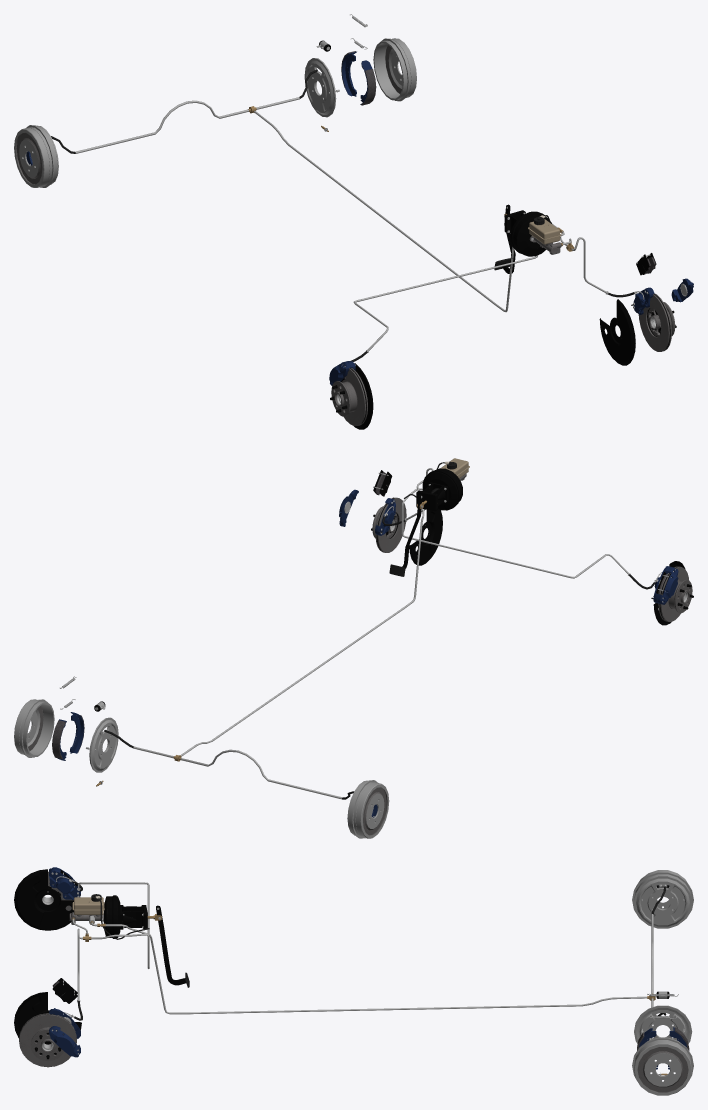
The model's file is tcc_models-full_brakes_COMPLETO.glb.
3 views of the same model, one above another, from view 1: azimuth 30°, elevation 25°; view 2: azimuth 150°, elevation 25°; view 3: azimuth 270°, elevation 25° (orthographic). The views are drawn at different scales.
Parts seen in each view (by area): view 1: linhas_freio, tambor_completo, disco_completo, tambor, tampa_tras, disco, tampa_traseira, hidrovacuo, sapatas, pinca, reservatorio_freio; view 2: linhas_freio, tambor_completo, tambor, disco_completo, hidrovacuo, tampa_traseira, tampa_tras, disco, sapatas, pinca; view 3: disco_completo, linhas_freio, tambor_completo, tambor, disco, hidrovacuo, tampa_traseira, tampa_tras, pinca, reservatorio_freio, pedal_freio, sapatas (+1 smaller).
Part boxes in pixels (x1,y1,x2,y2): linhas_freio: (51,69,634,361); tambor_completo: (14,125,58,187); disco_completo: (329,361,373,429); tambor: (373,38,416,101); tampa_tras: (599,299,635,365); disco: (638,293,676,351); tampa_traseira: (304,58,339,117); hidrovacuo: (504,210,551,256); sapatas: (341,51,376,105); pinca: (631,278,693,314); reservatorio_freio: (528,215,561,244); linhas_freio: (104,468,655,799); tambor_completo: (347,780,389,838); tambor: (14,699,54,757); disco_completo: (651,561,693,625); hidrovacuo: (416,468,462,511); tampa_traseira: (86,717,118,772); tampa_tras: (409,509,442,565); disco: (371,497,406,552); sapatas: (52,712,84,760); pinca: (339,489,395,535); disco_completo: (14,867,80,930); linhas_freio: (72,881,666,1020); tambor_completo: (632,870,693,928); tambor: (632,1037,693,1095); disco: (19,1013,76,1067); hidrovacuo: (104,895,162,938); tampa_traseira: (634,1005,692,1043); tampa_tras: (14,992,81,1044); pinca: (49,1008,80,1057); reservatorio_freio: (72,894,149,939); pedal_freio: (156,905,189,987); sapatas: (637,1027,689,1069).
Size of the model in its own units: 1.72 by 0.6351 by 2.73.
6 materials, 6 textured.
